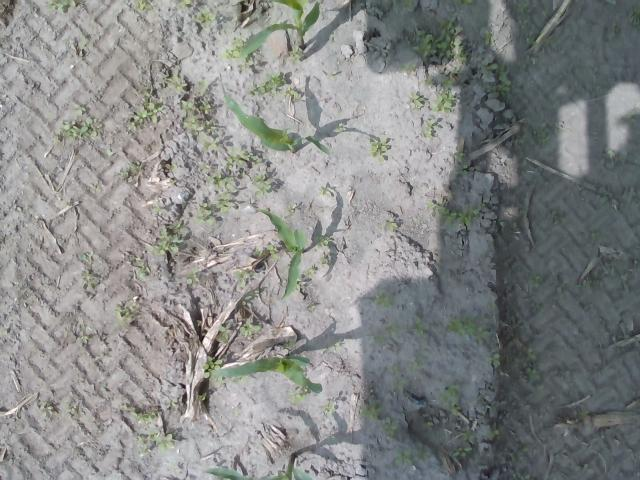Maize: (218, 73, 334, 158), (258, 206, 308, 301), (241, 0, 321, 59), (210, 354, 324, 393), (205, 454, 317, 480)
Weeds: (202, 151, 274, 212), (122, 400, 178, 458), (414, 14, 469, 62), (180, 94, 223, 152), (426, 200, 486, 226), (56, 106, 102, 139), (126, 101, 170, 133), (152, 222, 190, 256), (446, 318, 493, 344), (481, 61, 512, 97), (246, 71, 286, 96), (516, 0, 534, 45), (392, 448, 432, 466), (440, 383, 462, 413), (524, 346, 541, 382), (113, 301, 138, 324), (370, 136, 392, 162), (193, 203, 216, 227), (432, 88, 454, 111), (200, 354, 222, 377), (116, 160, 142, 178), (130, 258, 148, 280), (254, 243, 280, 258), (46, 0, 76, 13), (238, 320, 262, 336), (166, 73, 186, 92), (361, 400, 379, 421), (532, 125, 550, 145), (421, 118, 436, 141), (412, 316, 428, 336), (374, 288, 391, 306), (628, 5, 640, 30), (184, 266, 200, 284), (233, 265, 246, 286), (605, 148, 624, 162), (409, 94, 425, 110), (197, 11, 214, 26), (383, 320, 396, 338), (454, 446, 473, 458), (382, 216, 398, 230), (39, 404, 55, 418), (312, 236, 330, 248), (382, 422, 397, 436), (487, 352, 502, 366), (222, 46, 238, 59), (438, 77, 460, 86), (408, 355, 423, 368), (483, 31, 496, 46), (136, 0, 151, 13), (218, 326, 230, 342), (196, 78, 207, 94), (485, 427, 502, 437), (528, 274, 542, 286), (452, 152, 466, 164), (544, 35, 558, 47), (512, 472, 532, 480), (78, 250, 94, 260), (288, 88, 300, 101), (627, 110, 640, 122), (462, 429, 474, 441), (582, 278, 594, 290), (590, 229, 602, 241), (290, 392, 304, 402), (305, 266, 315, 280), (242, 292, 254, 302), (420, 420, 432, 430), (456, 0, 472, 7), (319, 185, 329, 196), (178, 0, 192, 7), (422, 79, 434, 87), (79, 335, 89, 344), (198, 392, 208, 401), (150, 206, 160, 214), (322, 402, 332, 410), (336, 126, 344, 133), (246, 56, 253, 64), (234, 39, 242, 46)
